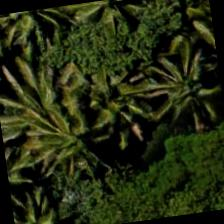Kelapa_Sawit: (118, 33, 220, 135), (14, 92, 116, 194), (0, 56, 78, 156), (5, 2, 102, 68), (140, 0, 218, 64)
